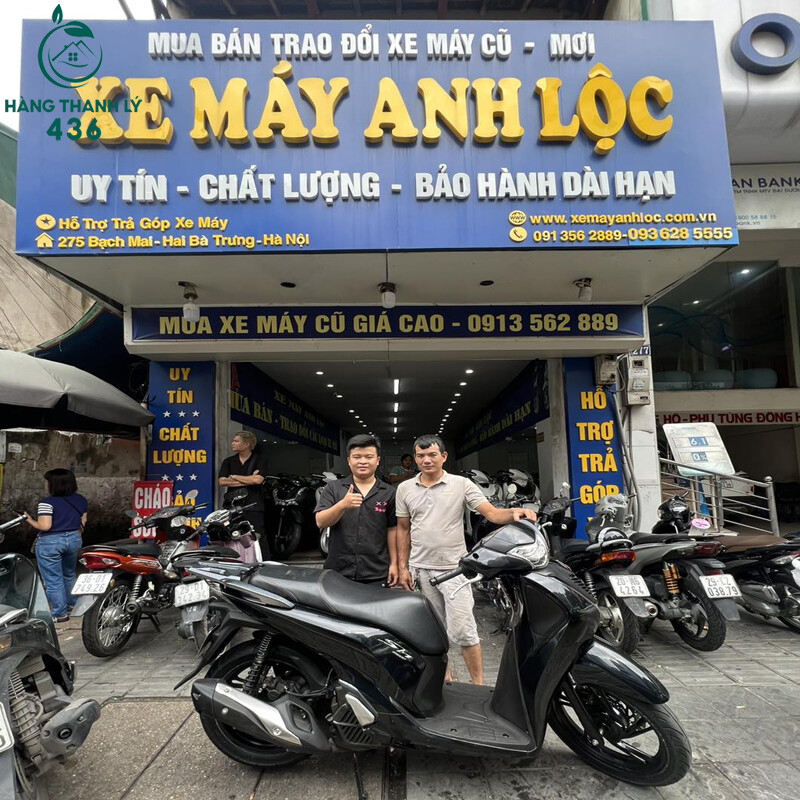bien_so: (695, 569, 745, 604), (606, 569, 652, 604), (69, 569, 114, 600), (169, 579, 211, 609)
